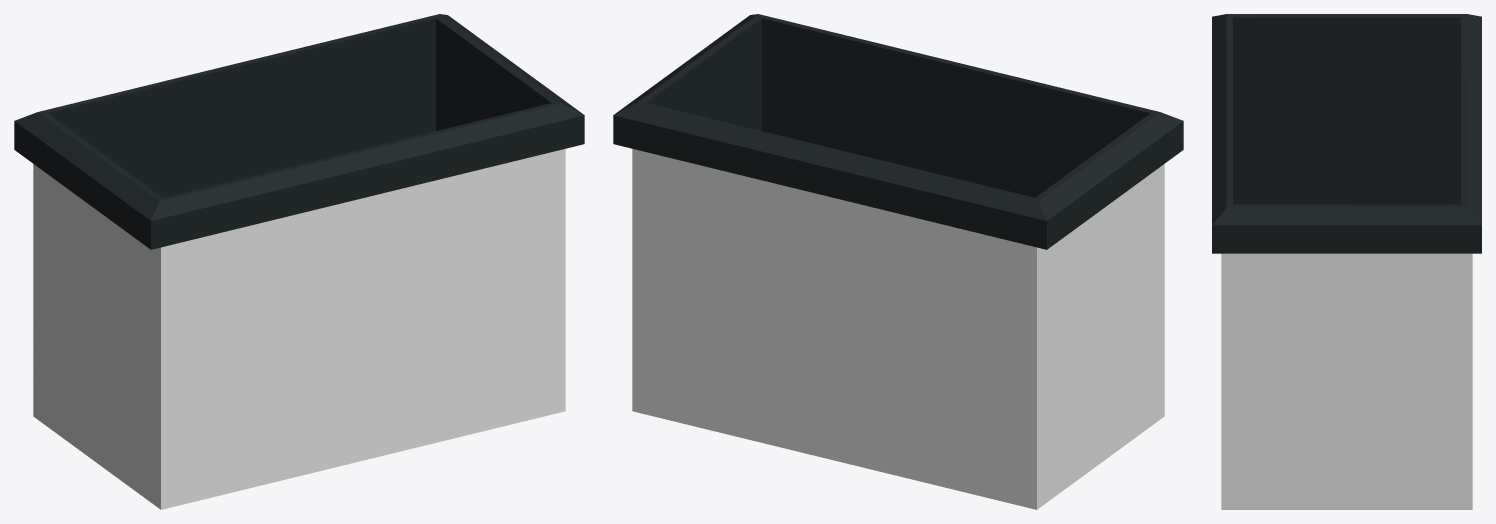
The model's file is geo_HamperEmpty_01.fbx.
3 renders of one model, left to right at view 1: azimuth 30°, elevation 25°; view 2: azimuth 150°, elevation 25°; view 3: azimuth 270°, elevation 25°, orthographic.
Parts seen in each view (by area): view 1: geo_HamperEmpty_01; view 2: geo_HamperEmpty_01; view 3: geo_HamperEmpty_01.
Part boxes in pixels (box(x1,y1,x2,y2)): geo_HamperEmpty_01: box(14, 14, 584, 509); geo_HamperEmpty_01: box(613, 14, 1183, 509); geo_HamperEmpty_01: box(1212, 14, 1481, 509).
Size of the model in its own units: 72.18 by 48.7 by 39.45.
Materials: 1 (1 with a texture image).
